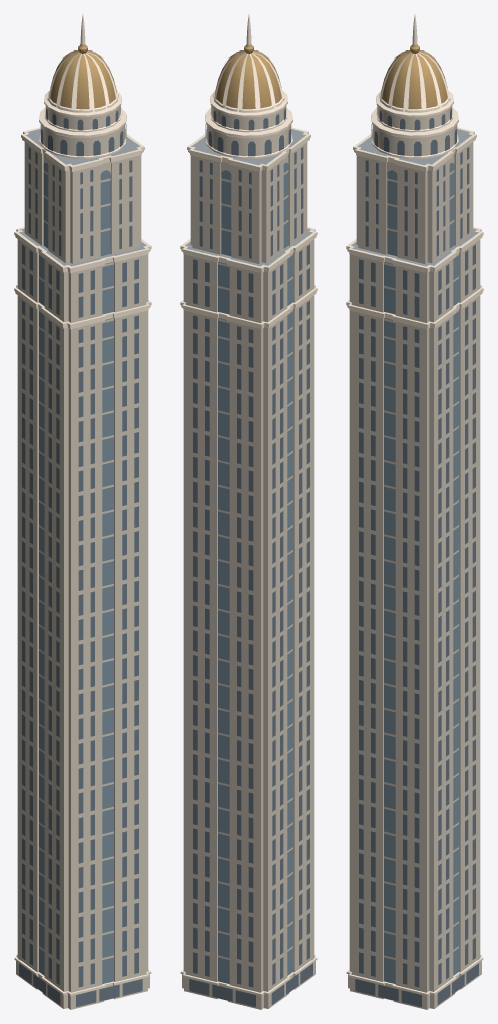
The model's file is dubai-princess-tower.glb.
3 renders of one model, left to right at view 1: azimuth 30°, elevation 25°; view 2: azimuth 150°, elevation 25°; view 3: azimuth 330°, elevation 25°, orthographic.
Visible parts, largest first — view 1: Princess Tower; view 2: Princess Tower; view 3: Princess Tower.
Part boxes in pixels (left/top/right/bottom): Princess Tower: left=14, top=14, right=151, bottom=1009; Princess Tower: left=180, top=14, right=317, bottom=1009; Princess Tower: left=346, top=14, right=483, bottom=1009.
Bounding box in the file's own units: 39.61 × 413 × 41.86.
